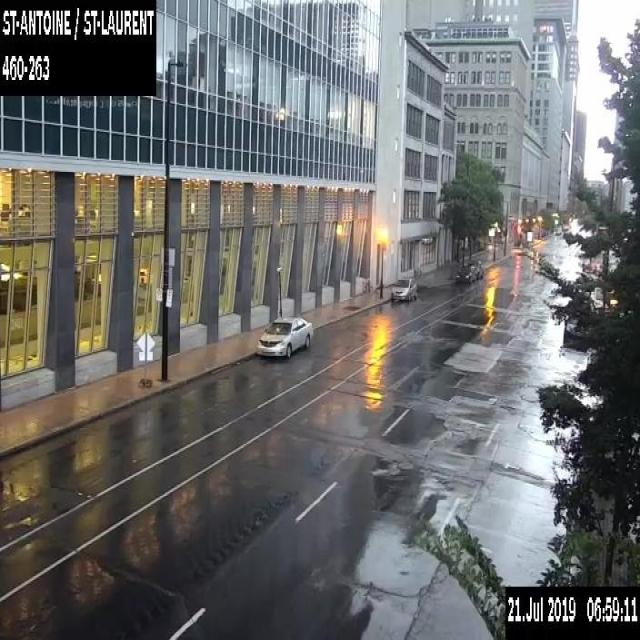construction: (134, 329, 156, 363), (581, 258, 602, 274)
vehicle: (255, 315, 313, 358), (562, 315, 587, 348), (391, 276, 416, 301), (454, 264, 476, 284), (466, 258, 483, 278), (561, 223, 568, 230), (554, 227, 561, 233)
